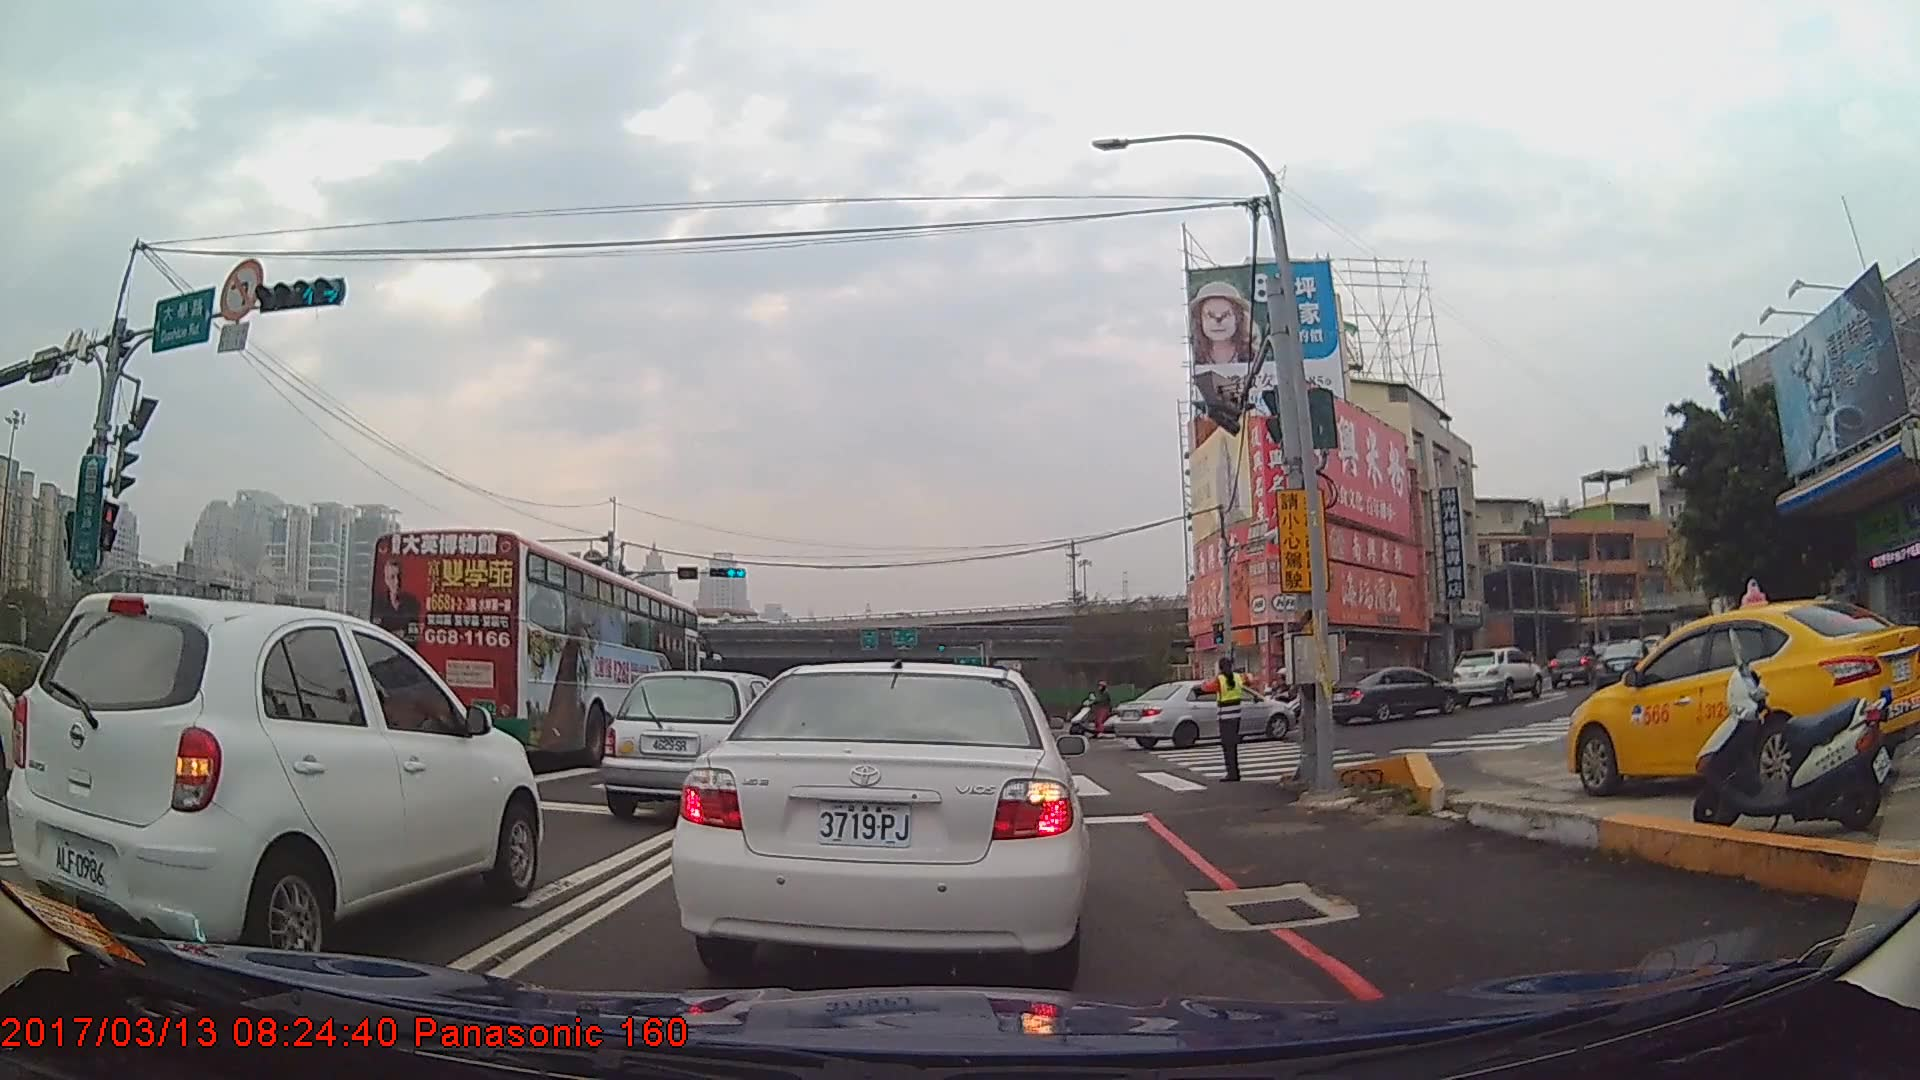pedestrian: (1206, 656, 1249, 785)
rider: (1072, 682, 1133, 738), (1253, 667, 1302, 725)
vehicle: (4, 586, 541, 974), (669, 658, 1086, 987), (358, 526, 706, 769), (1564, 599, 1920, 798), (599, 670, 813, 822), (1109, 678, 1292, 749), (1322, 664, 1456, 724), (1452, 645, 1542, 707), (1593, 638, 1658, 697), (1549, 642, 1601, 688)
